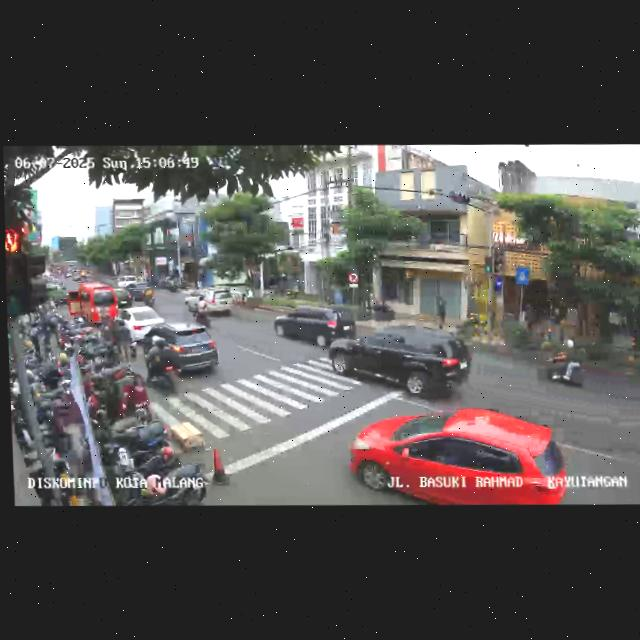car: (349, 404, 570, 508), (325, 319, 472, 404), (141, 321, 220, 391), (271, 301, 357, 348), (65, 281, 117, 327), (115, 305, 166, 344), (188, 287, 234, 317), (129, 279, 155, 303)
motorcycle: (536, 341, 588, 391), (144, 335, 181, 398), (193, 297, 211, 327)
